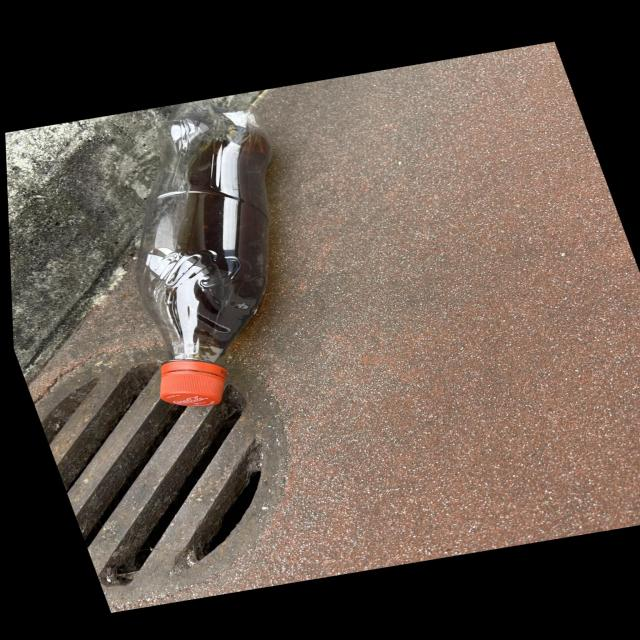medium: (138, 102, 271, 407)
